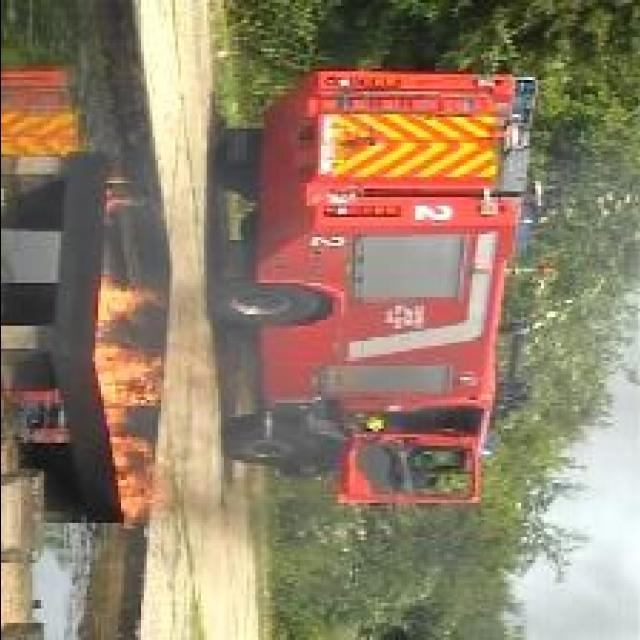Fire: (91, 344, 166, 527), (94, 272, 160, 338), (98, 174, 146, 228)
